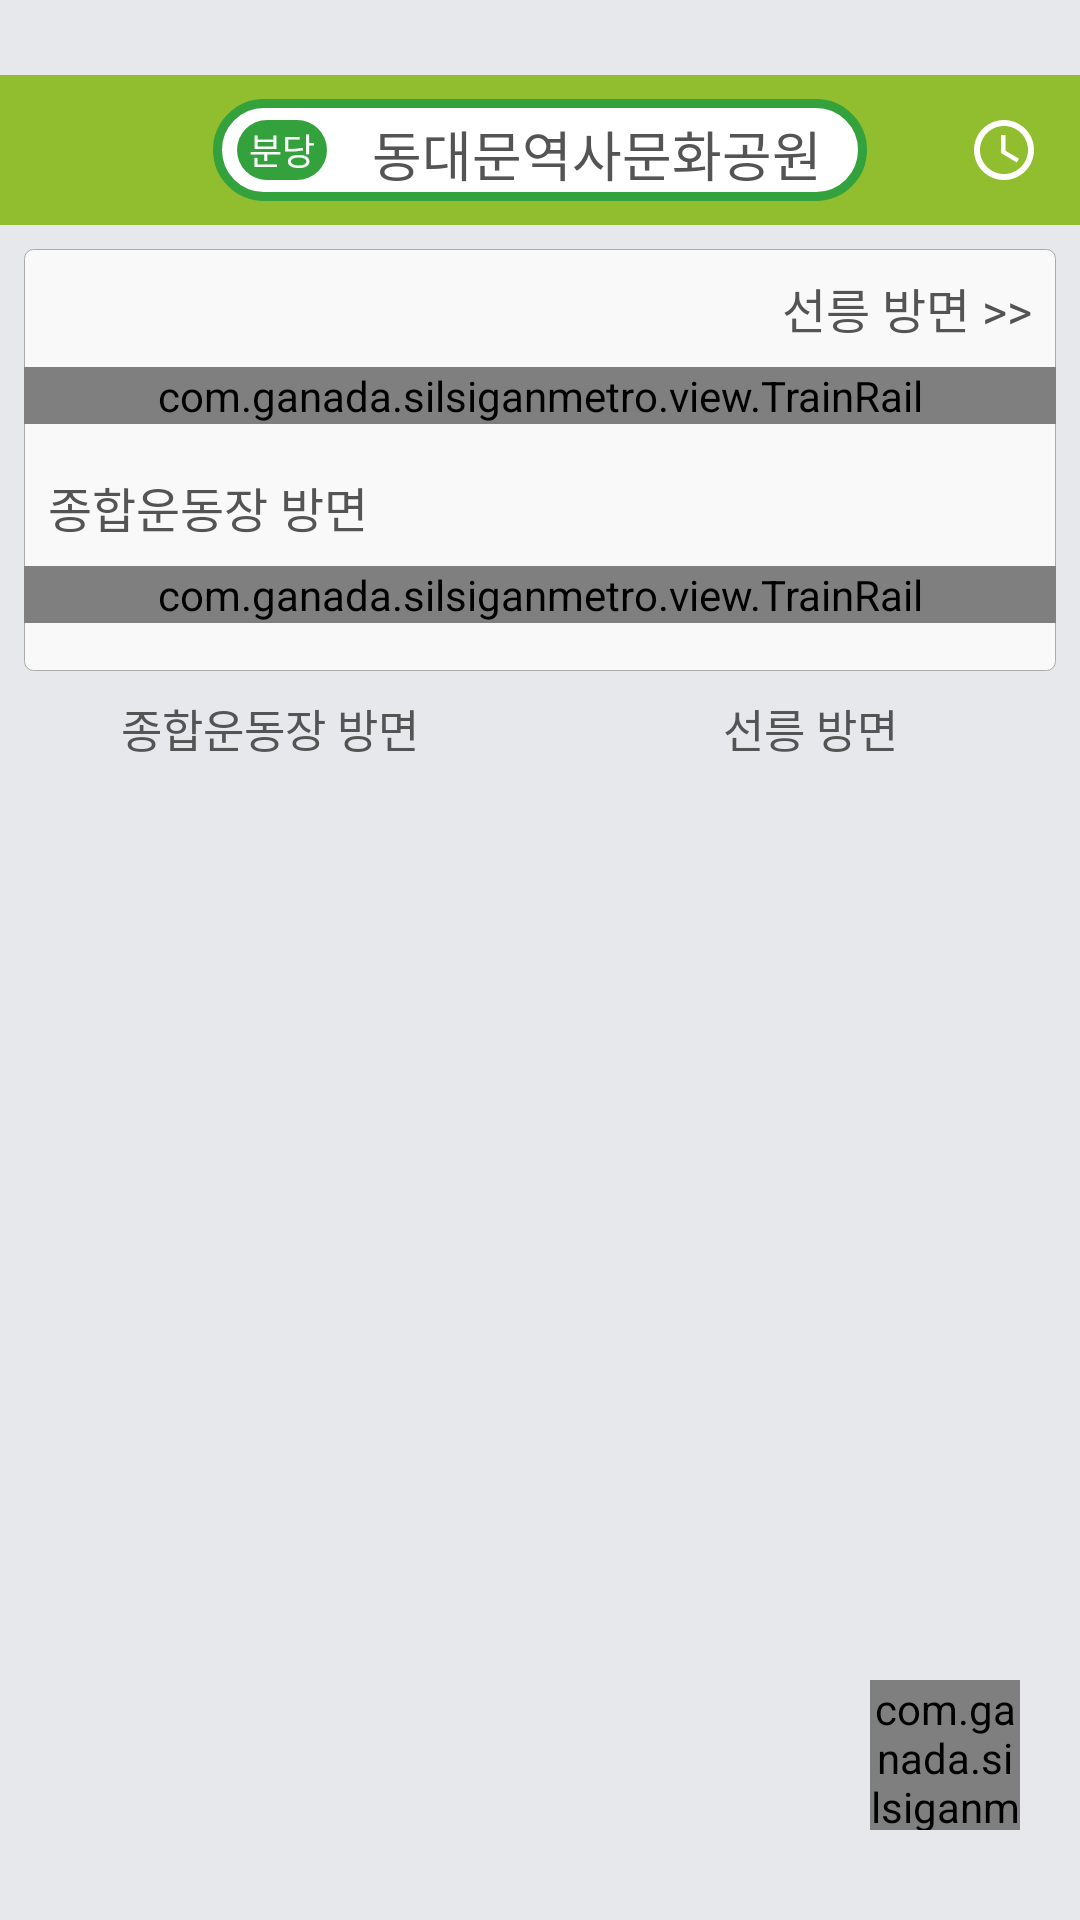

Icons on this 1080*1920 Android screen, each with its box as (left=x1, top=y1, right=x2, bottom=y2):
clock: (left=974, top=120, right=1034, bottom=180)
